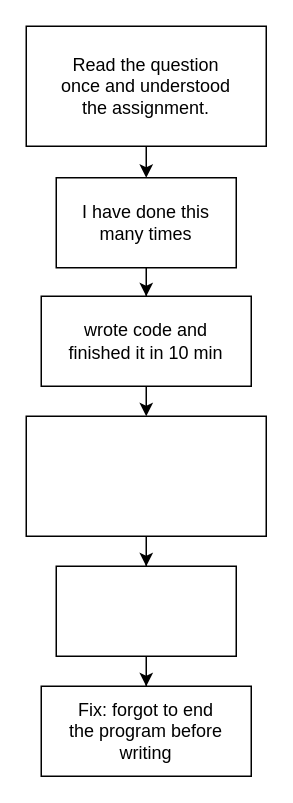
Some shapes in this 293 by 803 pixel diagram are drawn without their labels. Each missing label, with the centre of its shape:
"Did not work. was erasing all data" goes at point (145, 610).
"wanted to read file and not convert data that is already converted" goes at point (145, 475).
